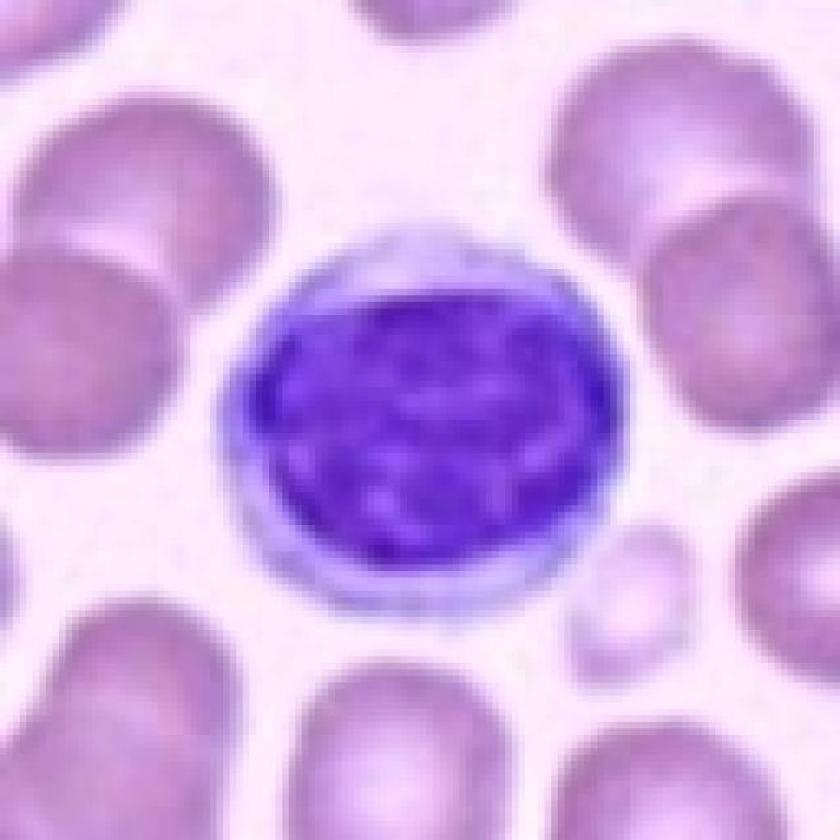lymphocyte: (195, 209, 655, 633)
